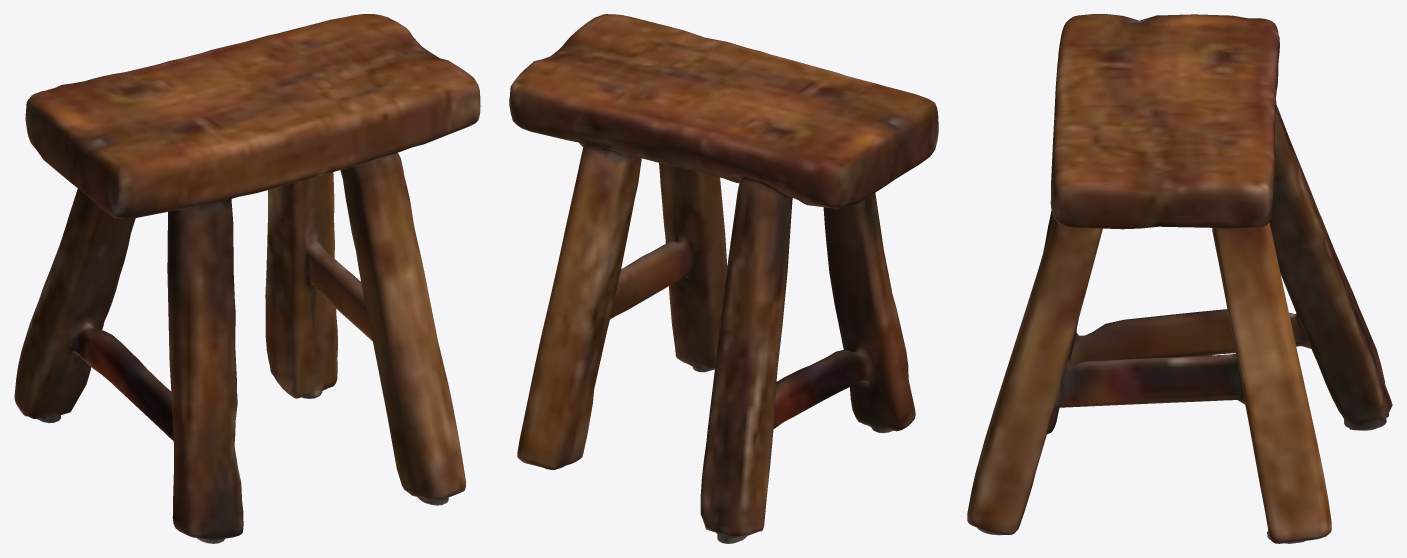
File: ph-wooden-stool-02.glb
The picture shows the model from 3 angles, left to right: view 1: azimuth 30°, elevation 25°; view 2: azimuth 150°, elevation 25°; view 3: azimuth 270°, elevation 25°; orthographic projection. The views are drawn at different scales.
Parts seen in each view (by area): view 1: wooden_stool_02; view 2: wooden_stool_02; view 3: wooden_stool_02.
Part boxes in pixels (box(x1,y1,x2,y2)): wooden_stool_02: box(14, 14, 480, 543); wooden_stool_02: box(509, 14, 938, 543); wooden_stool_02: box(967, 14, 1392, 543).
Size of the model in its own units: 0.9999 by 1 by 1.
1 material, 1 textured.
